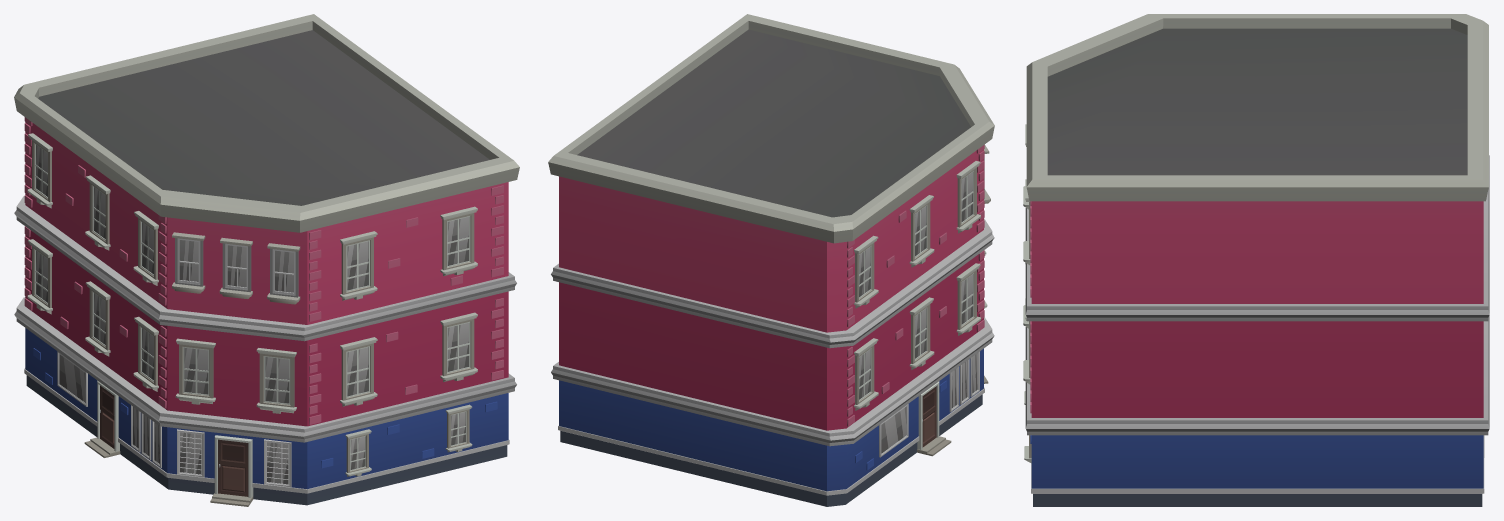
The model's file is Building_25_3_C.fbx.
3 renders of one model, left to right at view 1: azimuth 30°, elevation 25°; view 2: azimuth 150°, elevation 25°; view 3: azimuth 270°, elevation 25°, orthographic. The views are drawn at different scales.
Parts seen in each view (by area): view 1: Building_25_3_C; view 2: Building_25_3_C; view 3: Building_25_3_C.
Boxes of the visible parts, <box> form: Building_25_3_C: <box>14,14,519,506</box>; Building_25_3_C: <box>548,14,994,506</box>; Building_25_3_C: <box>1023,14,1489,506</box>.
Size of the model in its own units: 1291 by 1159 by 1479.
